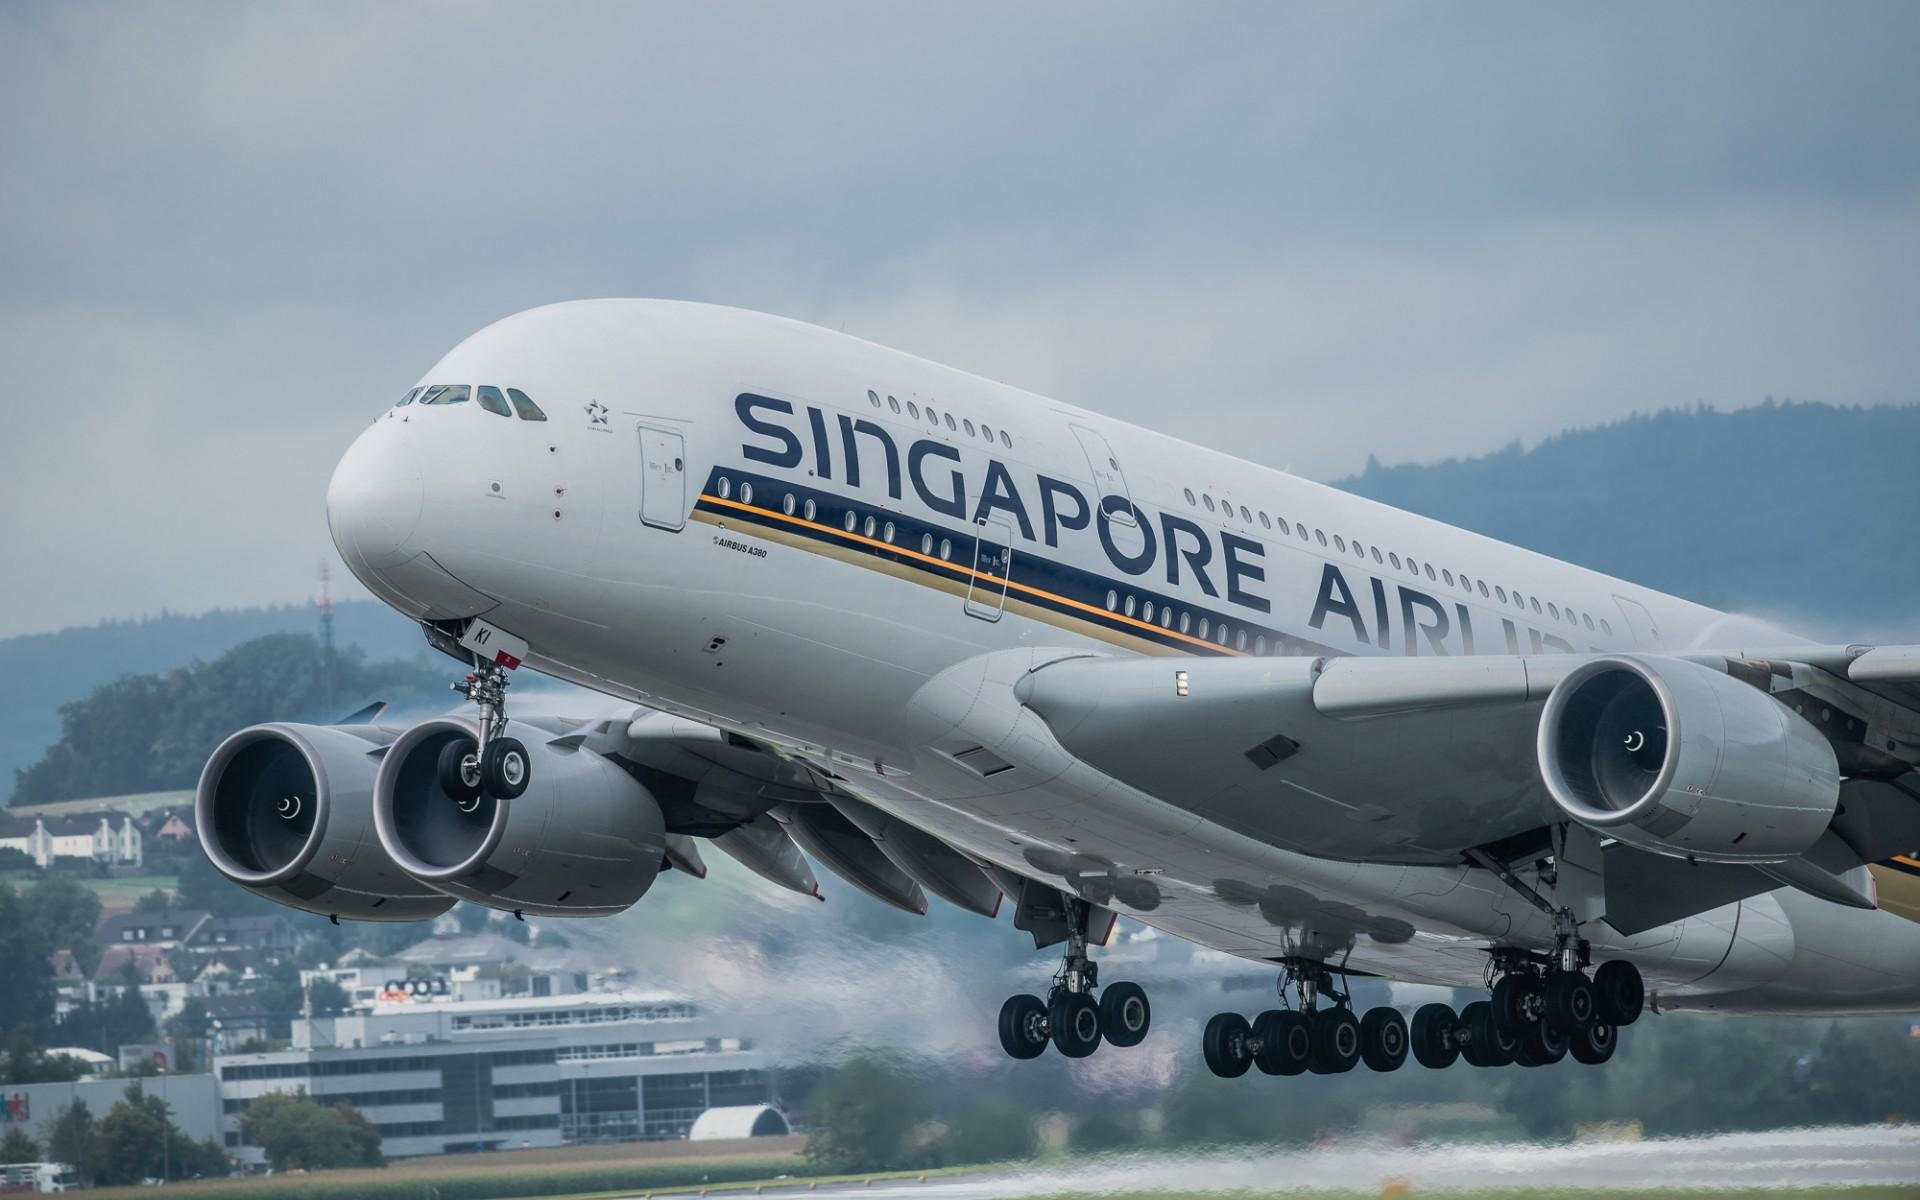airplane: (160, 290, 1920, 1073)
